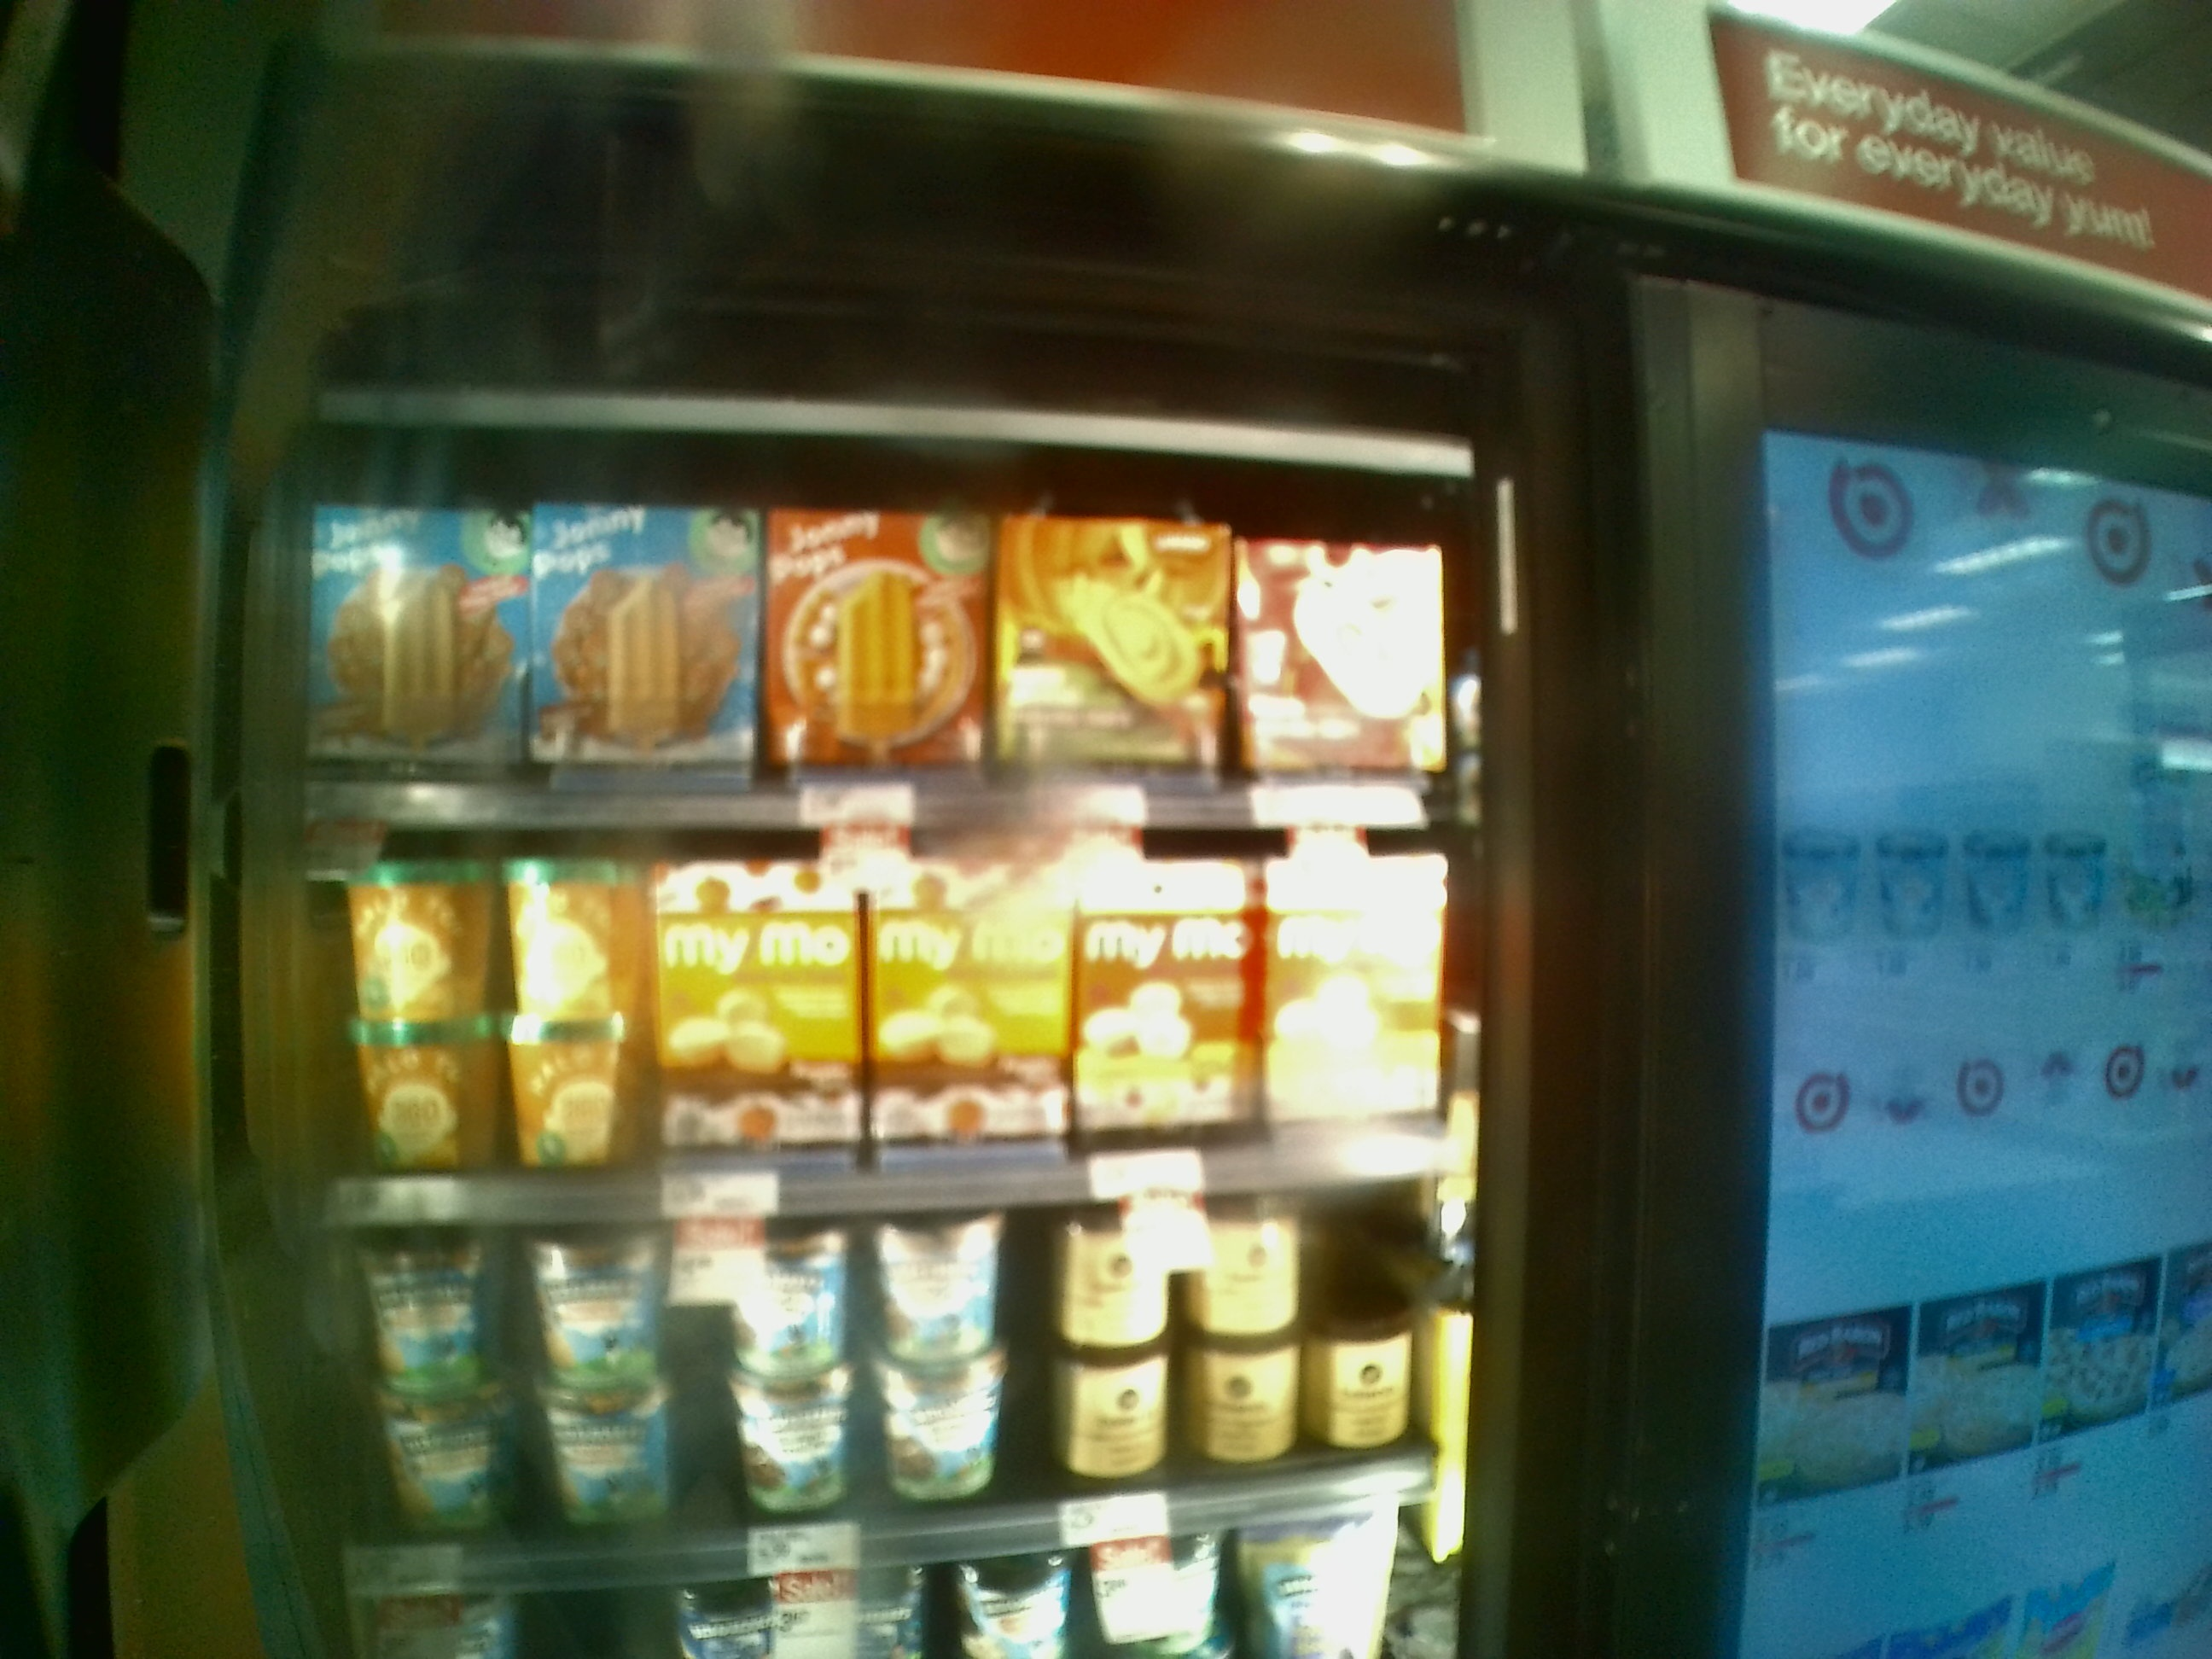shelf: (279, 427, 1486, 828), (275, 791, 1474, 1187), (268, 1182, 1444, 1528)
